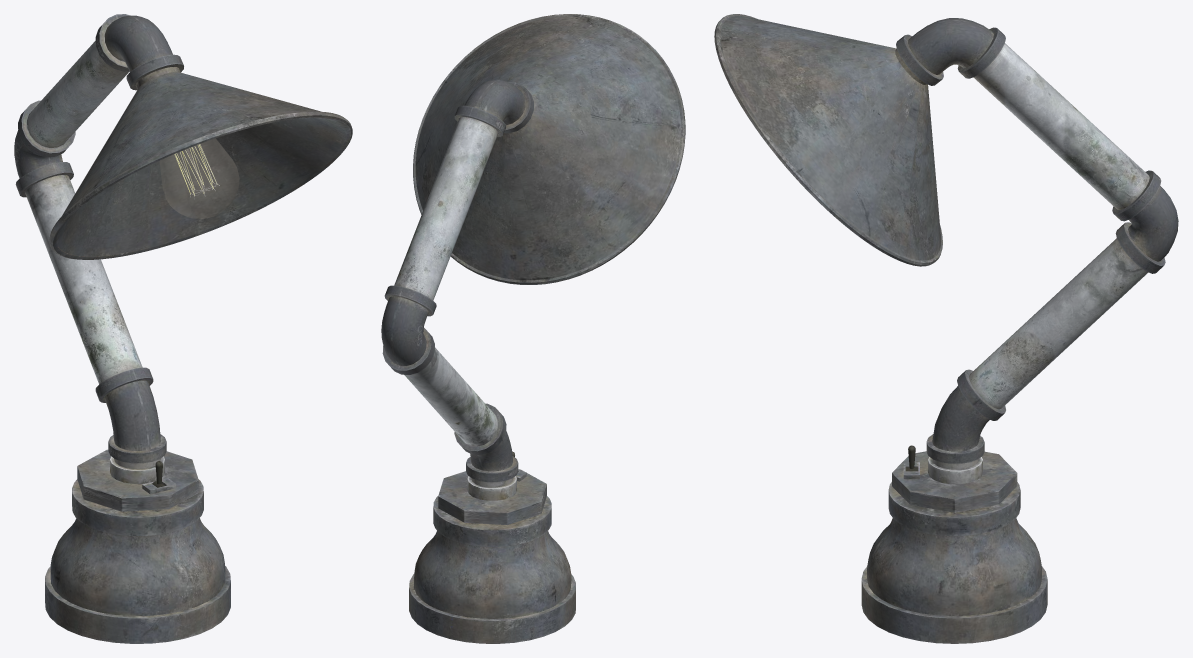
Rendered from industrial_pipe_lamp.glb.
The picture shows the model from 3 angles, left to right: view 1: azimuth 30°, elevation 25°; view 2: azimuth 150°, elevation 25°; view 3: azimuth 270°, elevation 25°; orthographic projection. The views are drawn at different scales.
Visible parts, largest first — view 1: industrial_pipe_lamp, industrial_pipe_lamp_bulb; view 2: industrial_pipe_lamp; view 3: industrial_pipe_lamp.
Part boxes in pixels (x1=…): industrial_pipe_lamp: x1=14, y1=14, x2=352, y2=643; industrial_pipe_lamp_bulb: x1=160, y1=138, x2=239, y2=218; industrial_pipe_lamp: x1=381, y1=14, x2=685, y2=643; industrial_pipe_lamp: x1=714, y1=14, x2=1178, y2=643.
Bounding box in the file's own units: 0.183 × 0.3641 × 0.2621.
2 materials, 2 textured.
